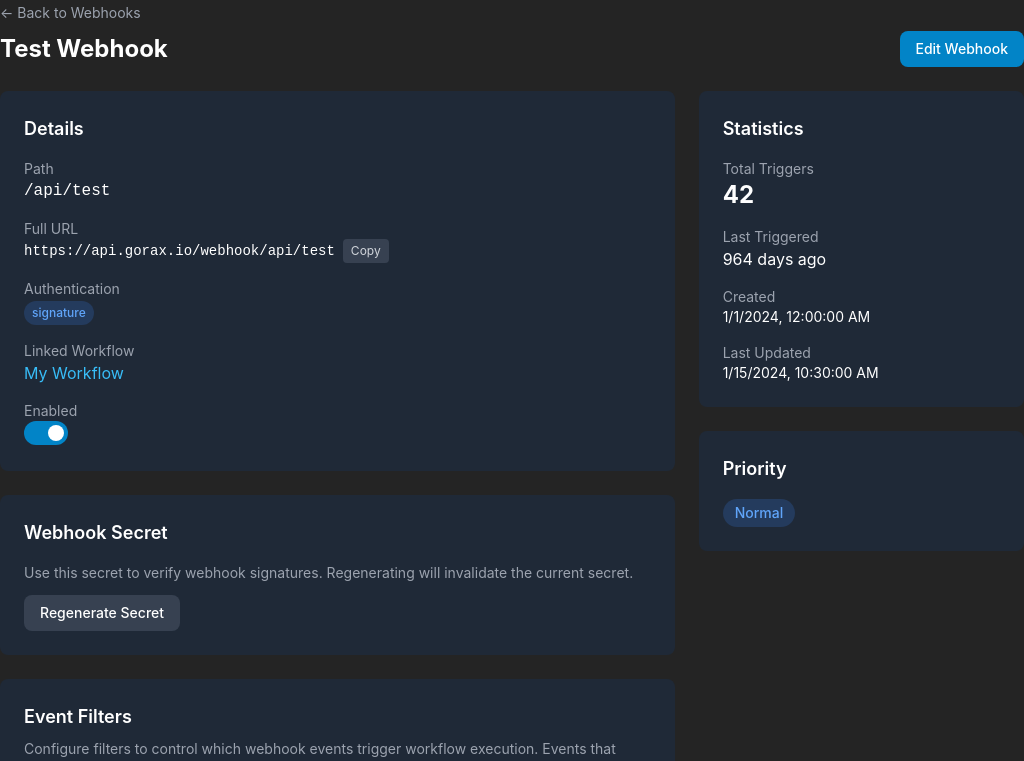
Test case: WebhookDetail › Secret Regeneration › should show new secret after regeneration
Click the button "Regenerate Secret": click(102, 613) [24, 595, 180, 631]
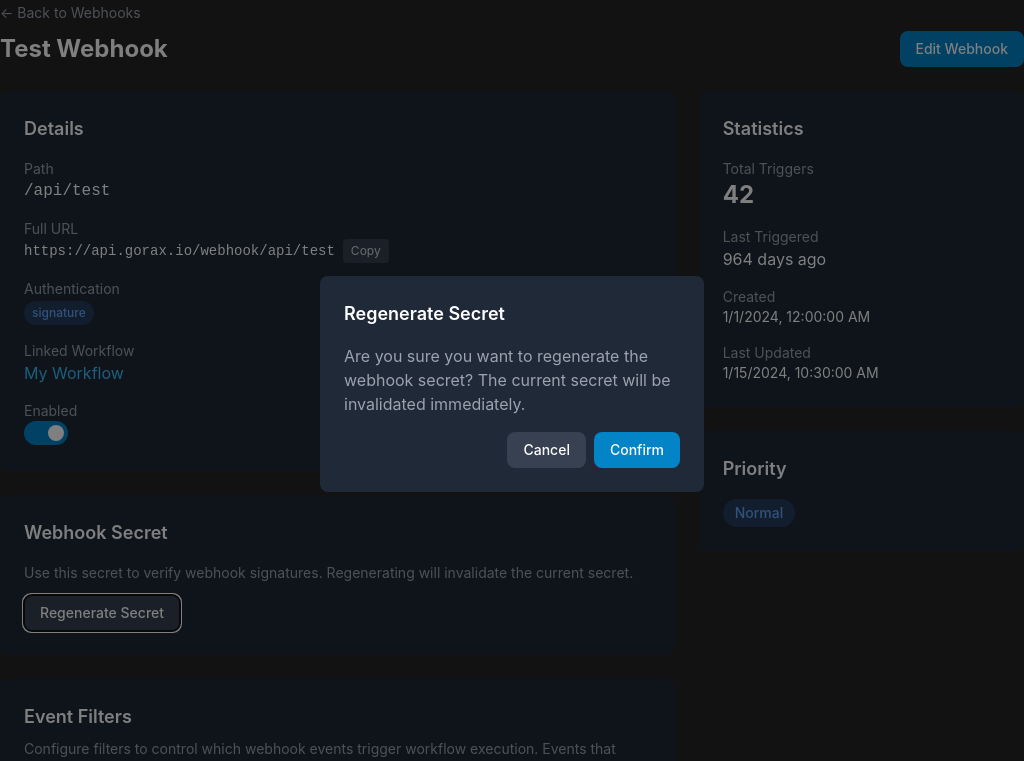
Click the button "Confirm": click(637, 450) [594, 432, 680, 468]
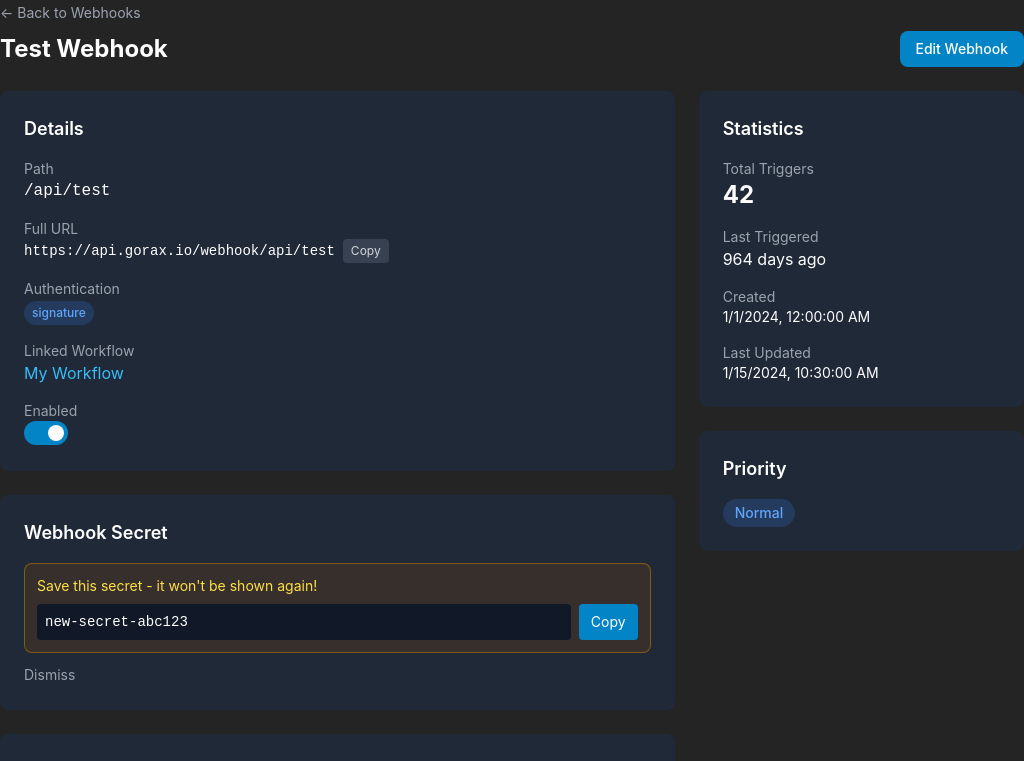
Expected: the text "new-secret-abc123" is shown, [37, 604, 571, 640]
Expected: the text "Save this secret - it won't be shown again!" is shown, [37, 577, 317, 594]
